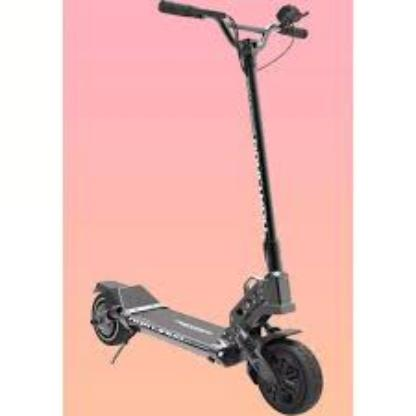bike: (89, 0, 325, 415), (89, 273, 324, 416)
